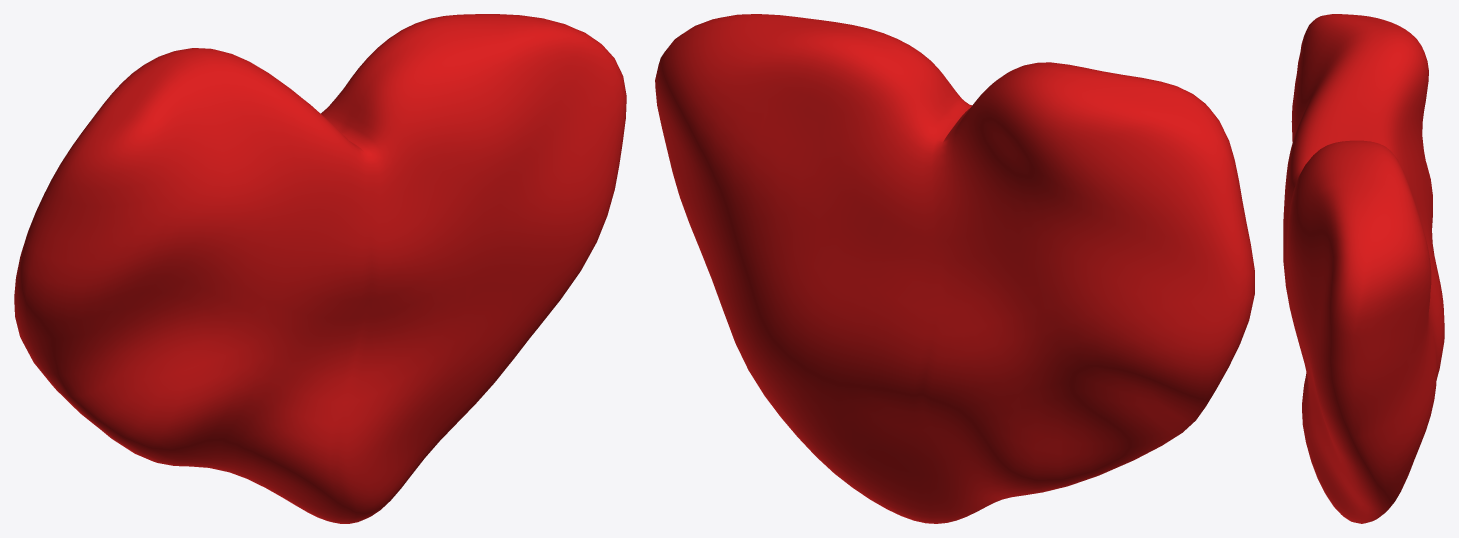
File: 10 heart.obj
3 renders of one model, left to right at view 1: azimuth 30°, elevation 25°; view 2: azimuth 150°, elevation 25°; view 3: azimuth 270°, elevation 25°, orthographic. The views are drawn at different scales.
Parts seen in each view (by area): view 1: 000_Heart; view 2: 000_Heart; view 3: 000_Heart.
Part boxes in pixels (box(x1,y1,x2,y2)): 000_Heart: box(14, 14, 626, 523); 000_Heart: box(655, 14, 1254, 523); 000_Heart: box(1283, 14, 1444, 523).
Size of the model in its own units: 274 by 216 by 75.06.
